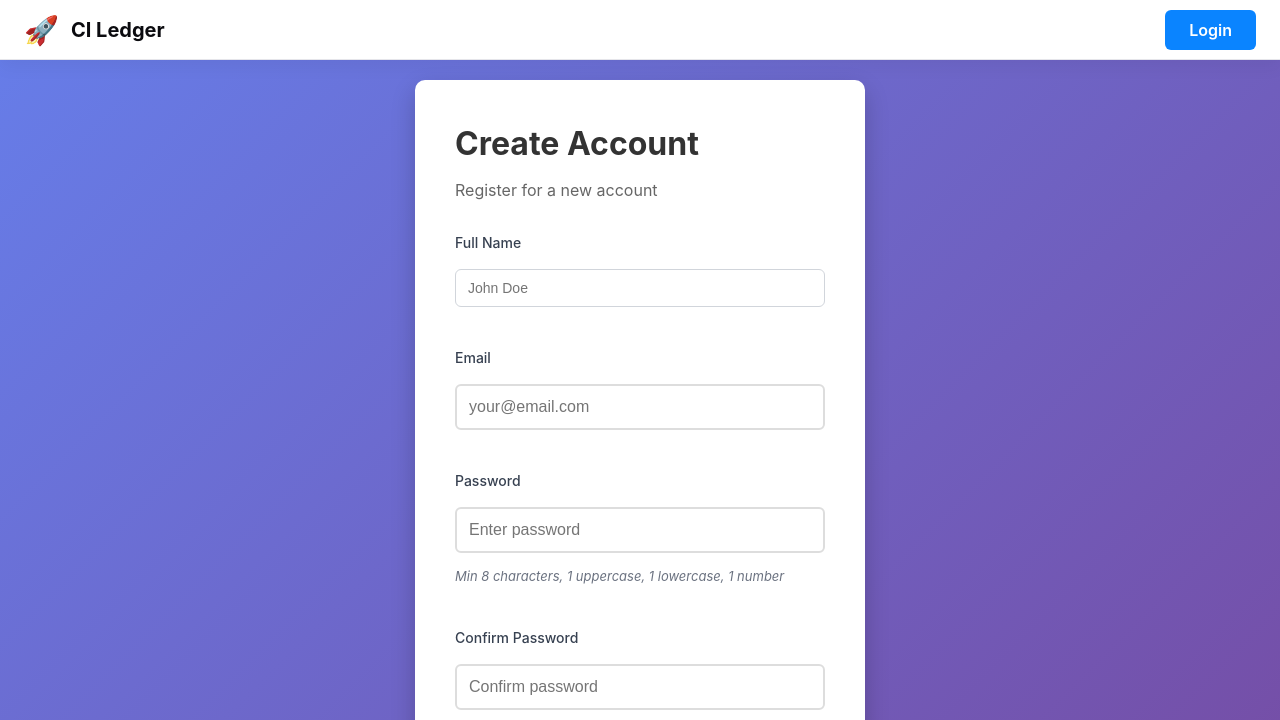
Test case: RegisterPage Component › validates password strength
Type "Test User" into the field with placeholder "John Doe".
click(640, 288); type("Test User")  # box [455,269,825,307]
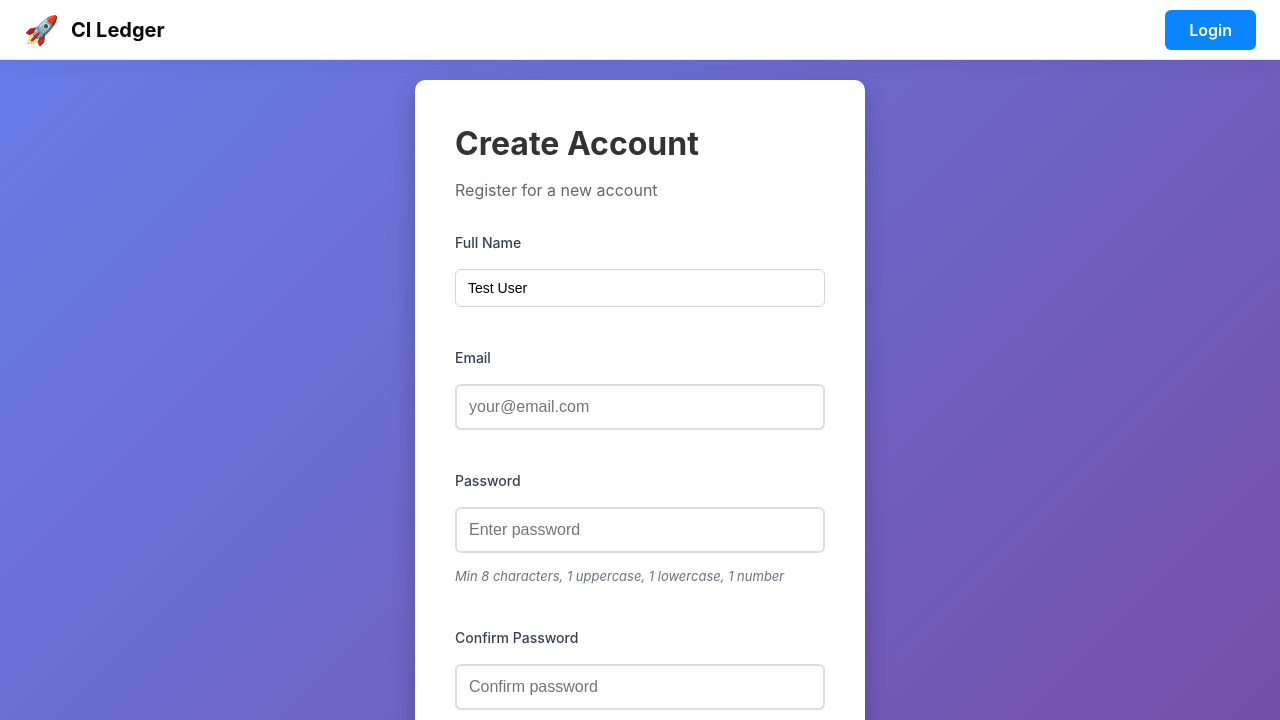
Type "test@example.com" into the field with placeholder "your@email.com".
click(640, 407); type("test@example.com")  # box [455,384,825,430]
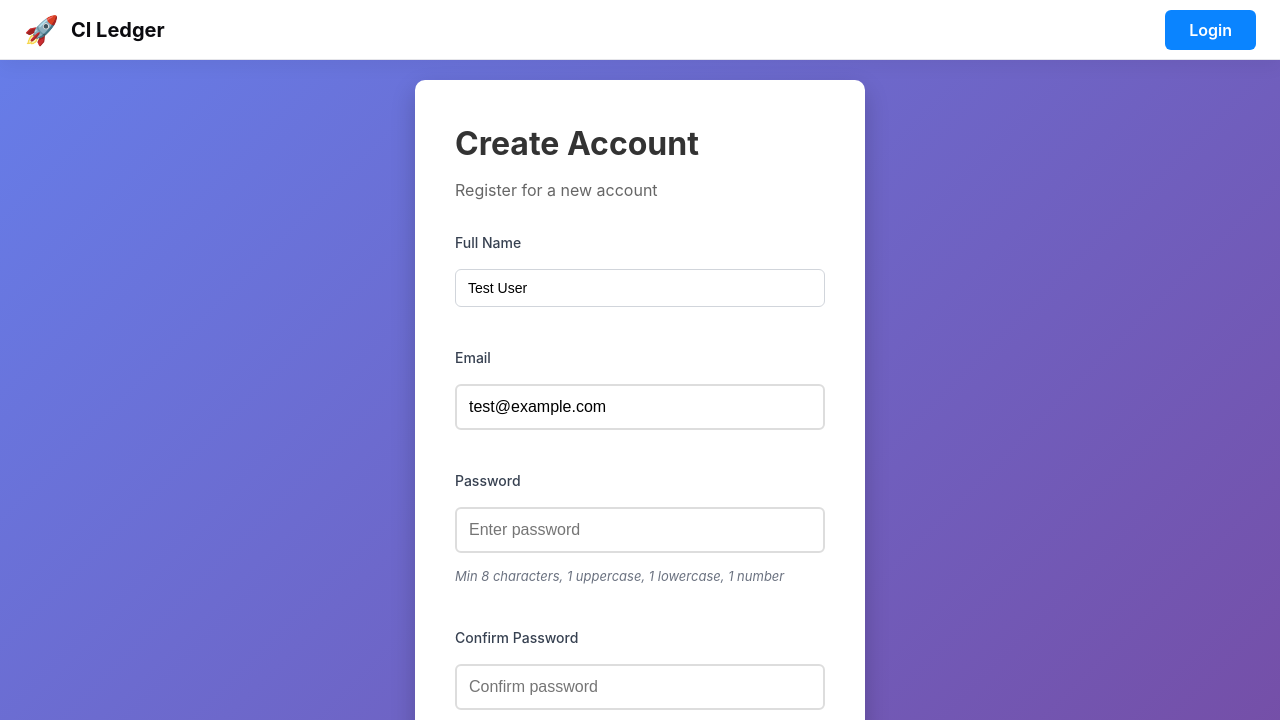
Type "weak" into the password field with placeholder "Enter password".
click(640, 530); type("weak")  # box [455,507,825,553]
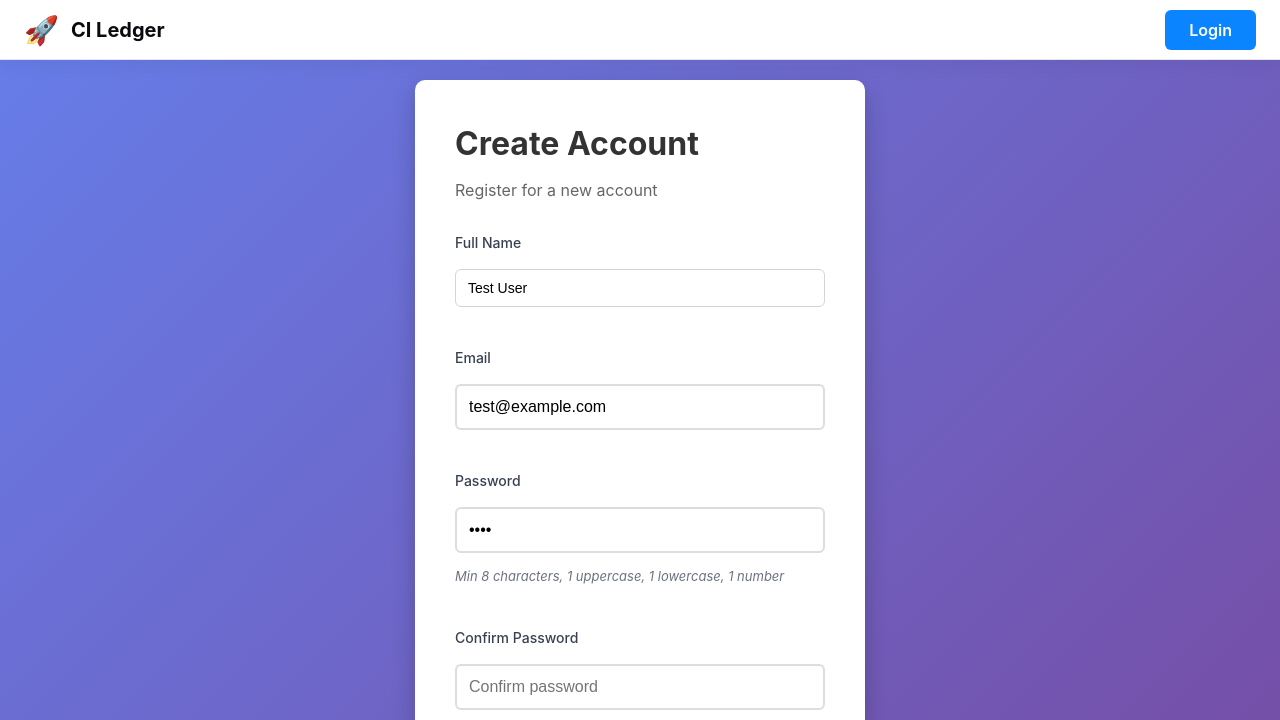
Type "weak" into the password field with placeholder "Confirm Password".
click(640, 686); type("weak")  # box [455,664,825,710]
(page scrolled)
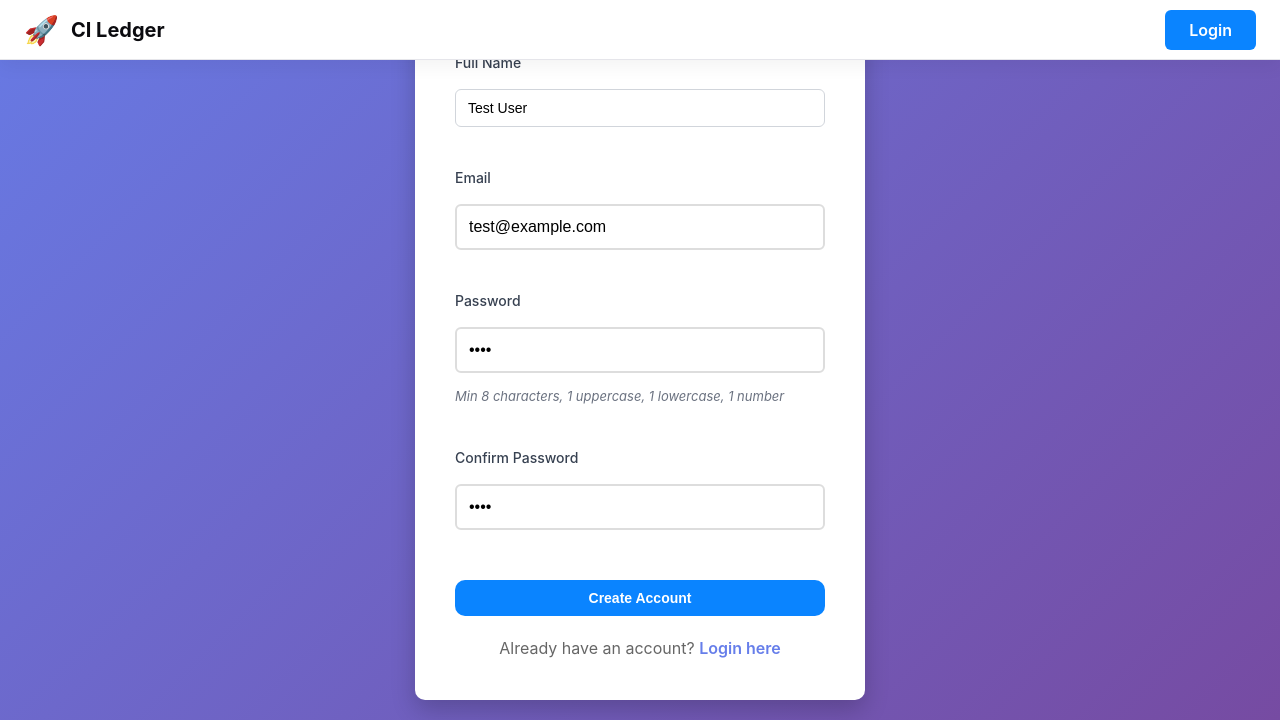
Click the button "Create Account".
click(640, 598)  # box [455,580,825,616]
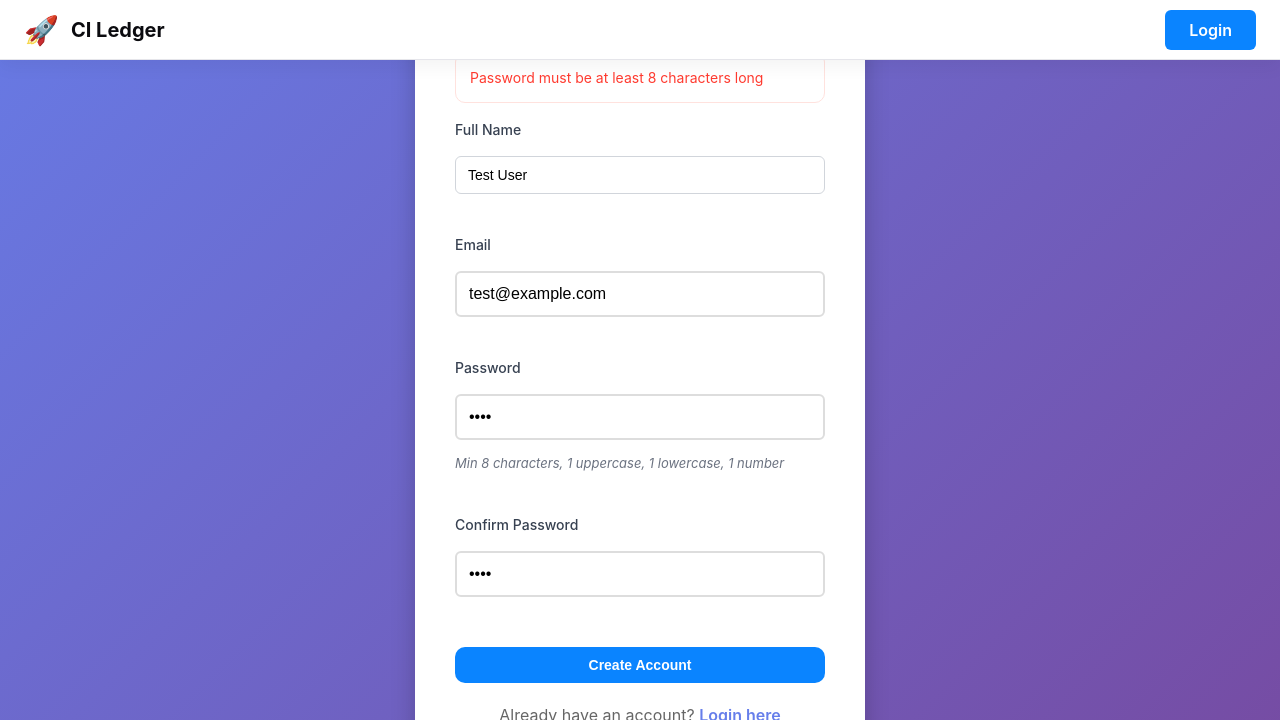
Result: the text "Password must be at least 8 characters long" is shown at [455,52,825,103]
